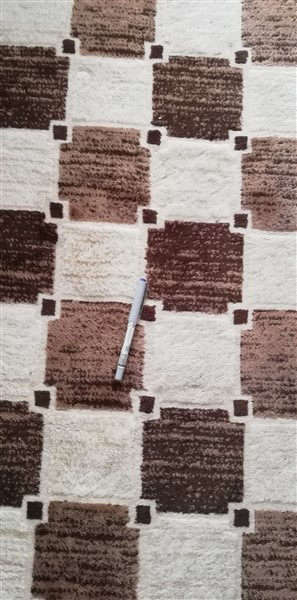pilot kalem: (110, 273, 150, 384)
